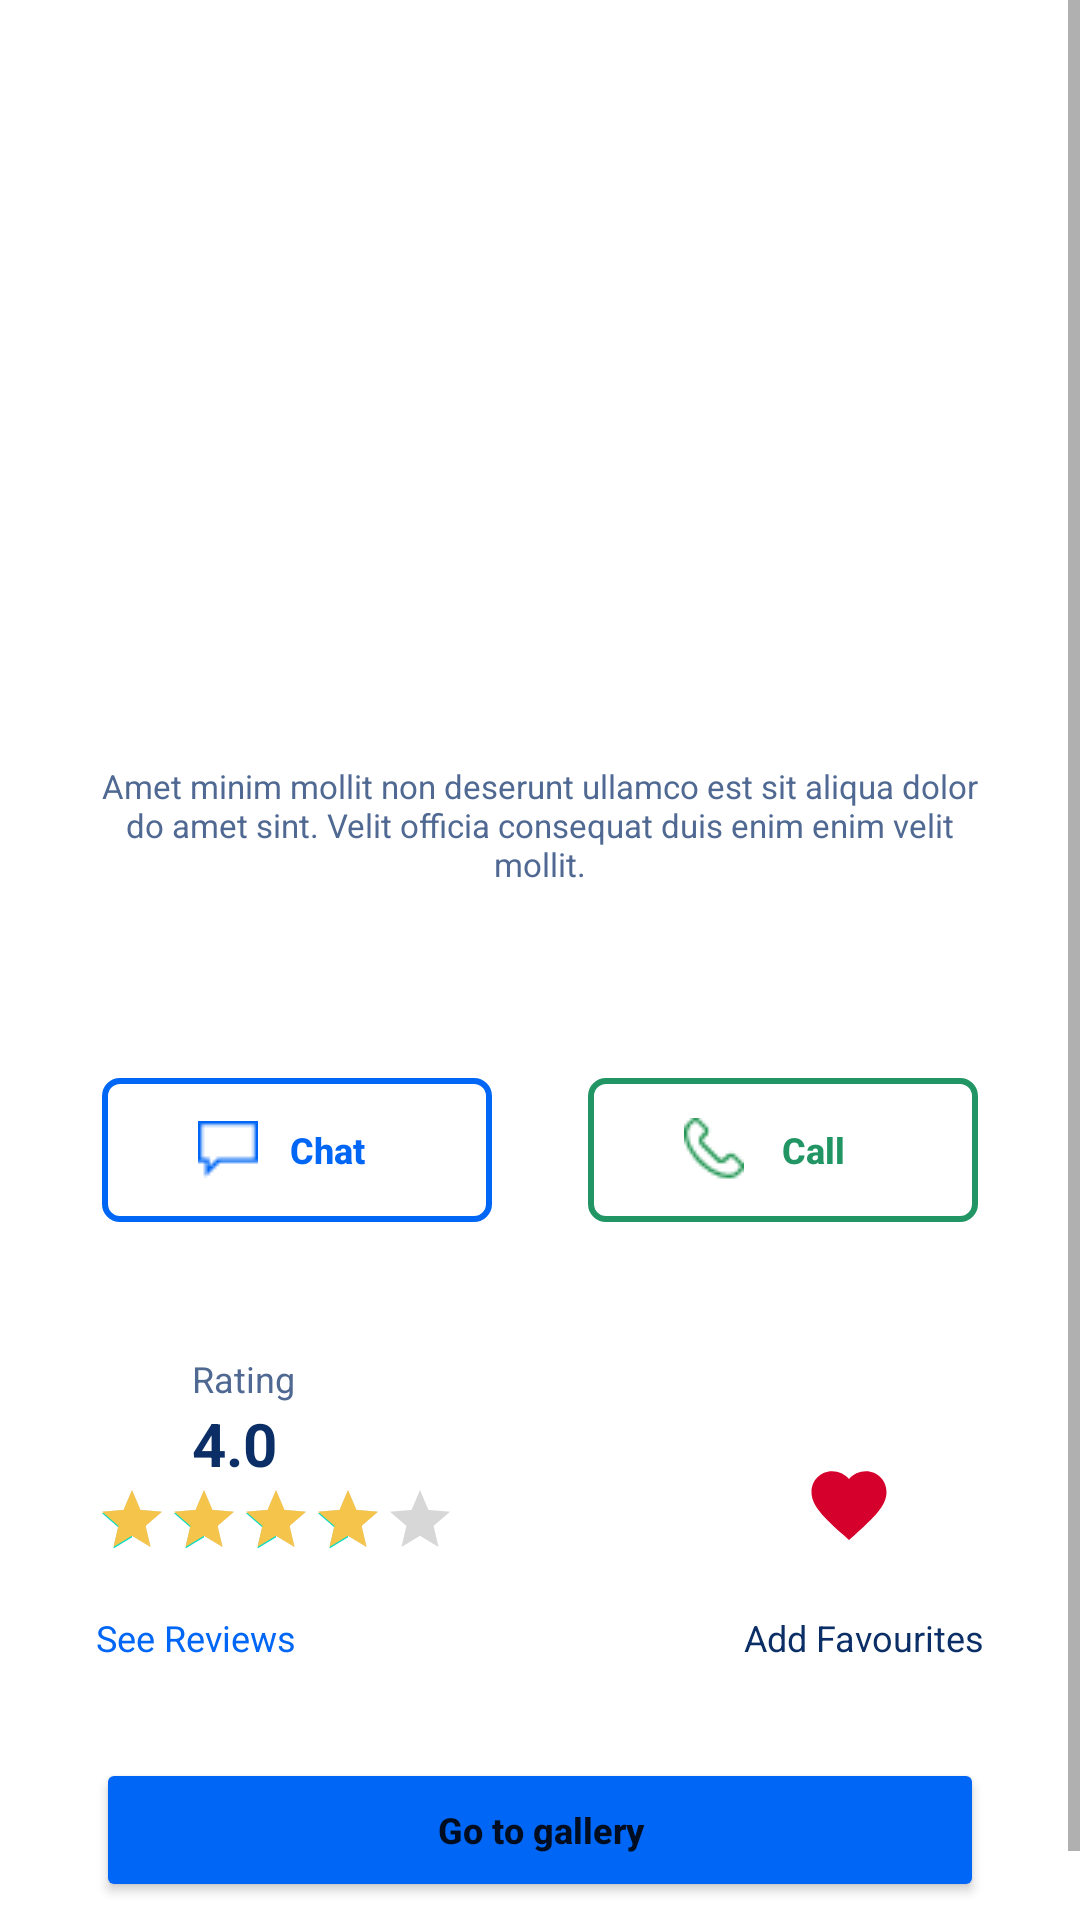

Icons on this 1080px×1920px Android screen, each with its box as {"x1": x1, "y1": y1, "x2": x2, "y2": y2}:
favorite: {"x1": 811, "y1": 1471, "x2": 887, "y2": 1540}
